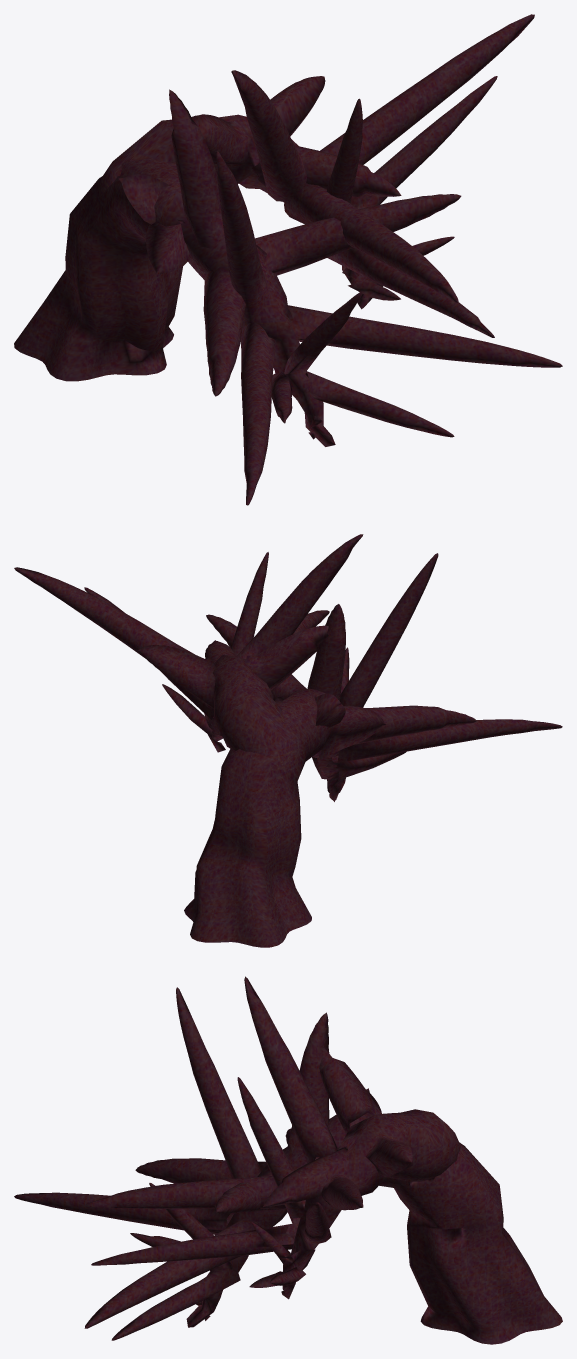
File: Thorns2.obj
The picture shows the model from 3 angles, top to bottom: view 1: azimuth 30°, elevation 25°; view 2: azimuth 150°, elevation 25°; view 3: azimuth 270°, elevation 25°; orthographic projection. The views are drawn at different scales.
Parts seen in each view (by area): view 1: Tree_0; view 2: Tree_0; view 3: Tree_0.
Part boxes in pixels (bbox=[...]): Tree_0: bbox=[14, 14, 562, 505]; Tree_0: bbox=[14, 534, 562, 947]; Tree_0: bbox=[14, 976, 562, 1344].
Bounding box in the file's own units: 2003 × 1501 × 2237.
